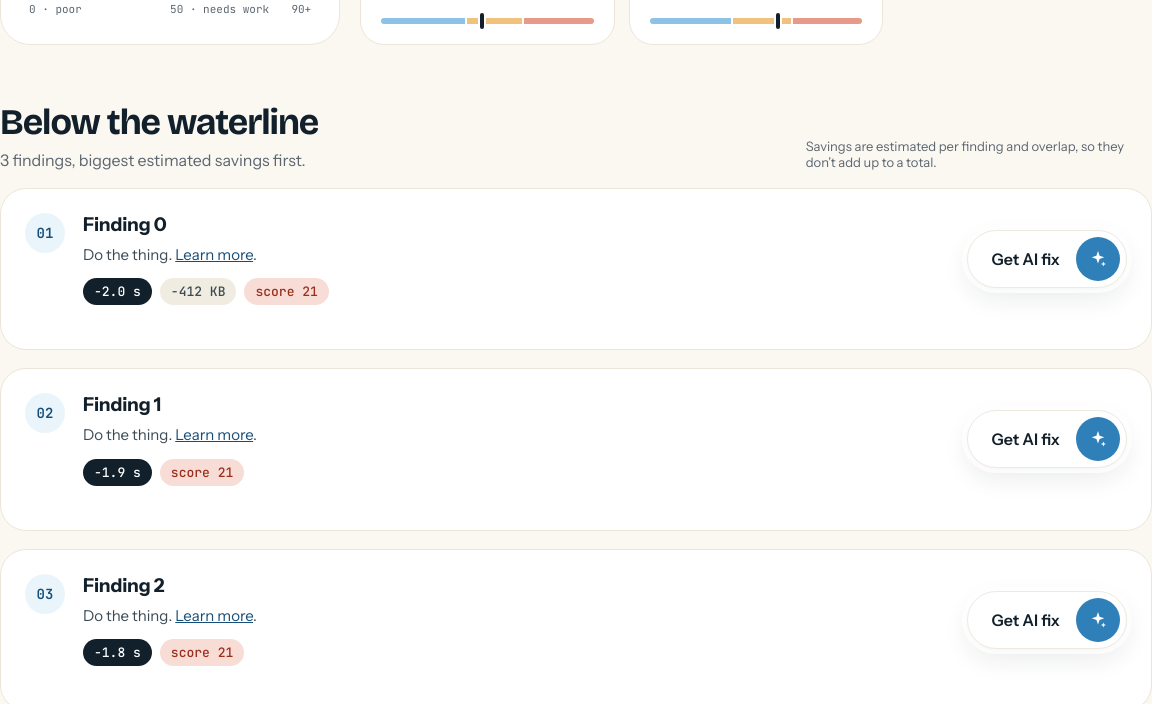
ReportPage › requests limit=index+1 and caches the fixes it got back
The width and height of the screenshot is (1152, 704).
(page scrolled)
What coordinates should you click on to do the following:
click the button with aria-label "Get AI fix for Finding 1"
I would click on:
 (1047, 439)
Its box is left=966, top=410, right=1127, bottom=468.
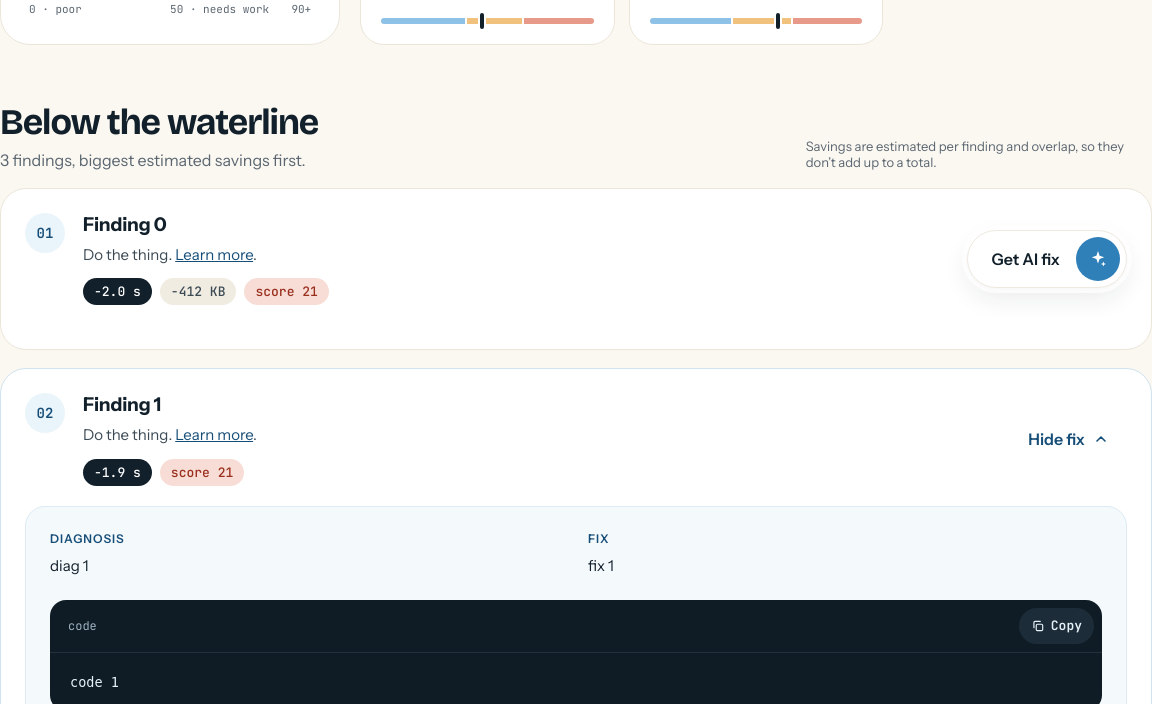
Result: the text "diag 1" is shown at left=50, top=556, right=89, bottom=575
Result: the text "code 1" is shown at left=70, top=674, right=119, bottom=690
# Finding 0 was in that response: opening it must not hit the API again.
What coordinates should you click on to do the following:
click the button with aria-label "Get AI fix for Finding 0"
I would click on:
 (1047, 259)
Its box is left=966, top=230, right=1127, bottom=288.
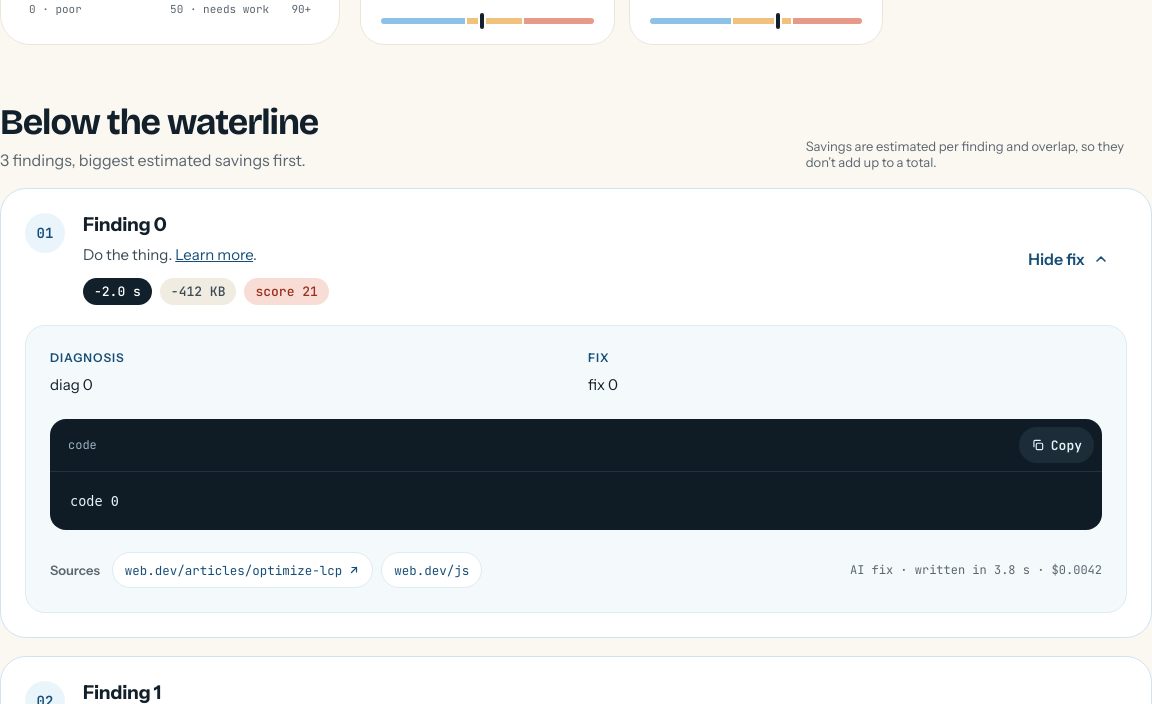
Result: the text "diag 0" is shown at left=50, top=375, right=93, bottom=394
What coordinates should you click on to do the following:
click the button "Hide fix" in the row of "01"
I would click on:
 (1069, 259)
Its box is left=1010, top=235, right=1127, bottom=283.
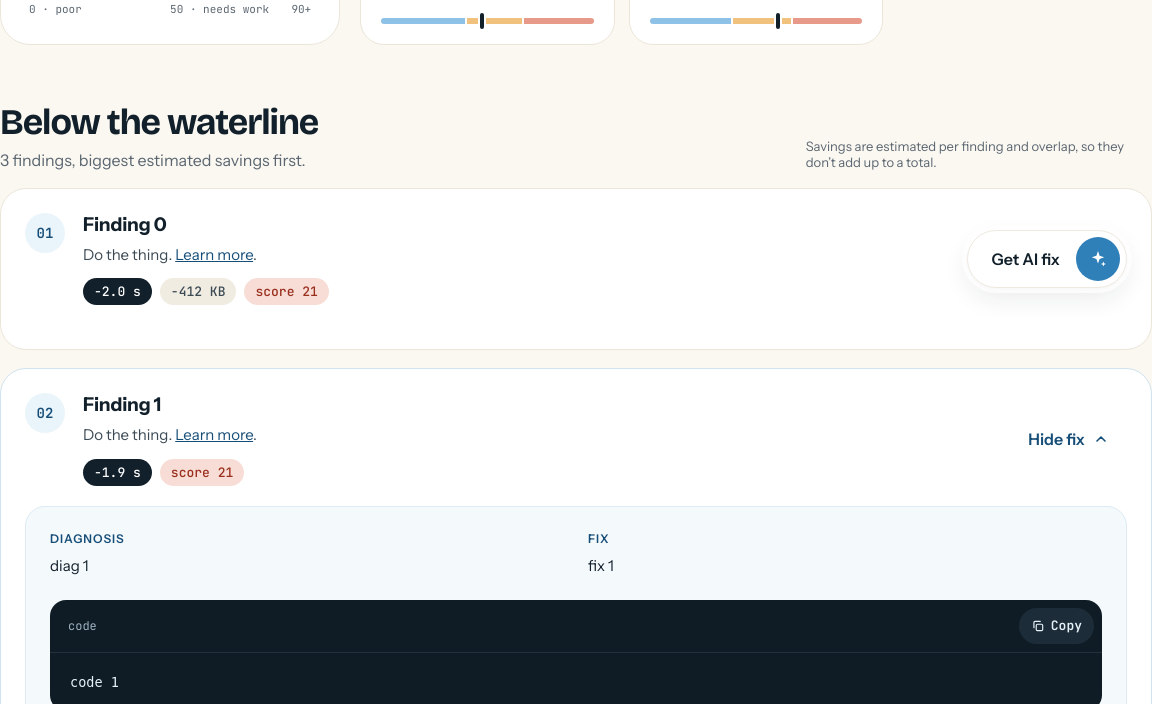
Result: the text "diag 0" is gone
